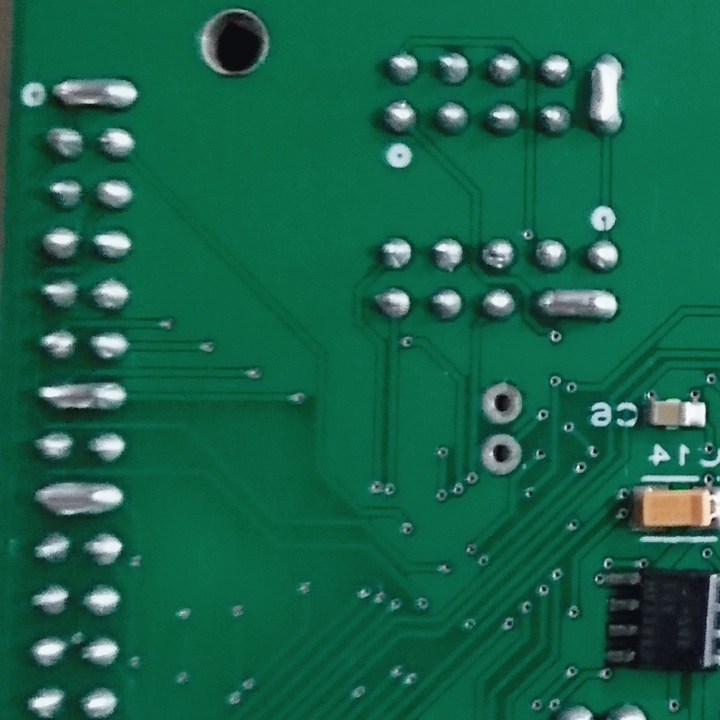F: (478, 427, 527, 479), (479, 380, 527, 428)
P: (32, 478, 130, 520), (584, 50, 629, 140), (49, 72, 142, 114), (533, 286, 624, 326), (33, 378, 133, 414)
